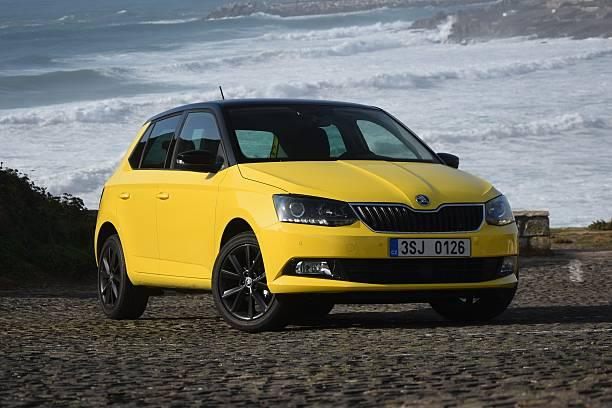skoda: (410, 192, 438, 210)
